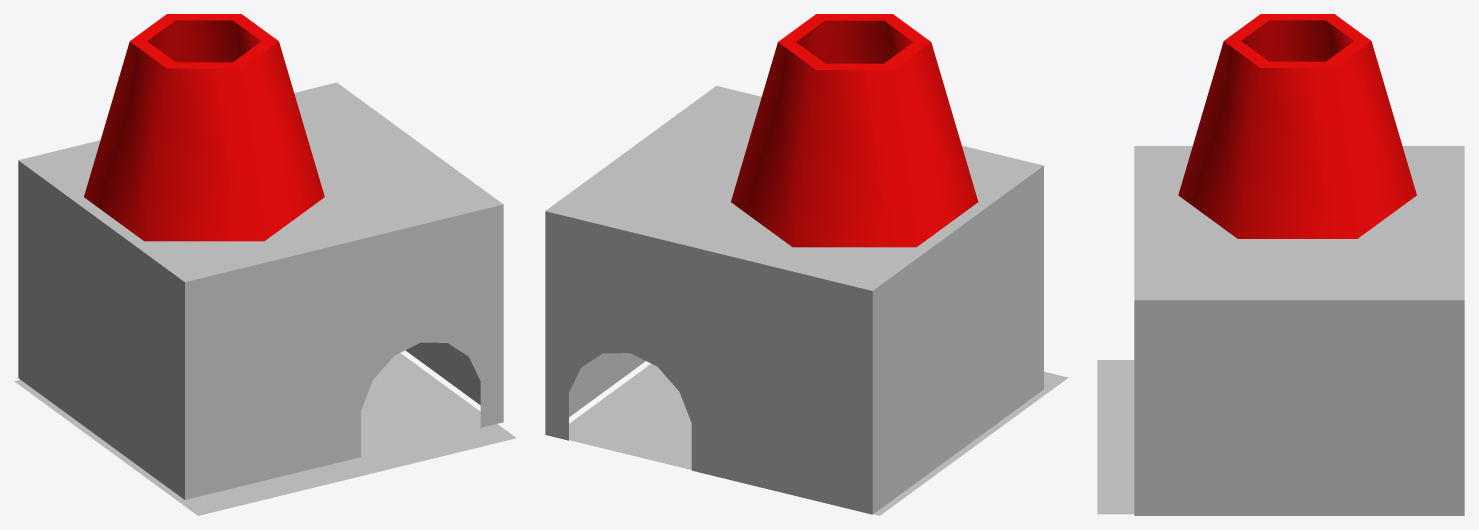
The model's file is tank-factory.obj.
3 views of the same model, side by side, from view 1: azimuth 30°, elevation 25°; view 2: azimuth 150°, elevation 25°; view 3: azimuth 270°, elevation 25° (orthographic). The views are drawn at different scales.
Bounding box in the file's own units: 2.03 × 2.25 × 2.02.
